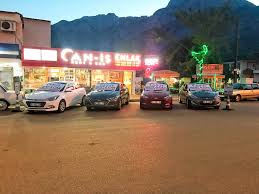car: (23, 80, 86, 112), (85, 83, 130, 109), (137, 83, 174, 110), (179, 84, 220, 108)
